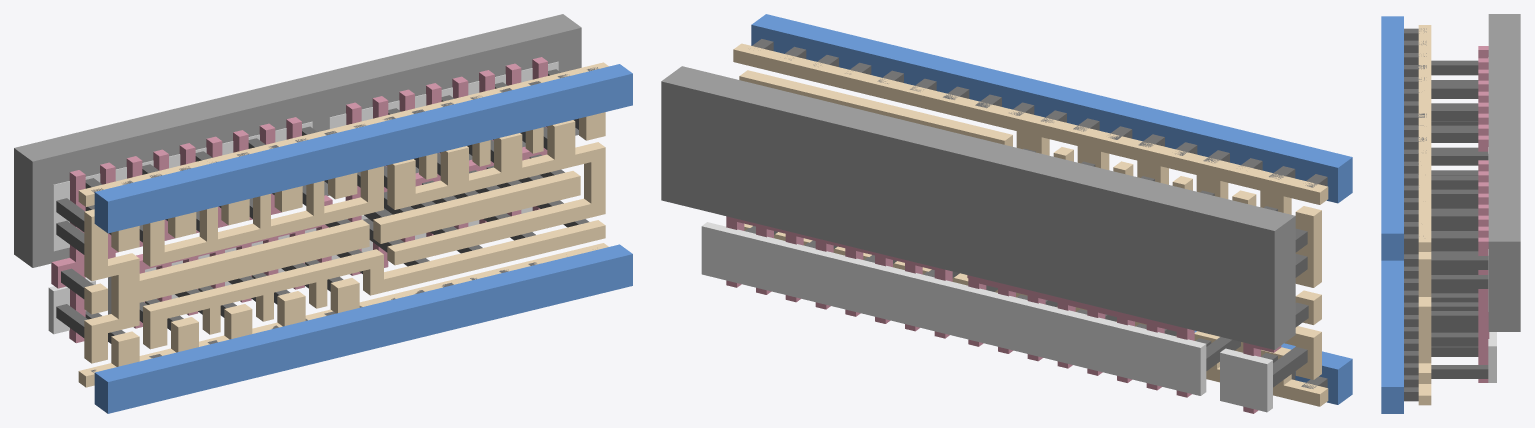
The model's file is sky130_fd_sc_hd__einvn_8.gds.gltf.
3 views of the same model, side by side, from view 1: azimuth 30°, elevation 25°; view 2: azimuth 150°, elevation 25°; view 3: azimuth 270°, elevation 25° (orthographic). The views are drawn at different scales.
Parts seen in each view (by area): view 1: sky130_fd_sc_hd__einvn_8_li1, sky130_fd_sc_hd__einvn_8_met1, sky130_fd_sc_hd__einvn_8_nwell, sky130_fd_sc_hd__einvn_8_poly, sky130_fd_sc_hd__einvn_8_licon, sky130_fd_sc_hd__einvn_8_diff, sky130_fd_sc_hd__einvn_8_mcon; view 2: sky130_fd_sc_hd__einvn_8_nwell, sky130_fd_sc_hd__einvn_8_diff, sky130_fd_sc_hd__einvn_8_li1, sky130_fd_sc_hd__einvn_8_met1, sky130_fd_sc_hd__einvn_8_poly, sky130_fd_sc_hd__einvn_8_mcon, sky130_fd_sc_hd__einvn_8_licon; view 3: sky130_fd_sc_hd__einvn_8_licon, sky130_fd_sc_hd__einvn_8_nwell, sky130_fd_sc_hd__einvn_8_met1, sky130_fd_sc_hd__einvn_8_mcon, sky130_fd_sc_hd__einvn_8_li1, sky130_fd_sc_hd__einvn_8_poly, sky130_fd_sc_hd__einvn_8_diff.
Boxes of the visible parts, <box> form: sky130_fd_sc_hd__einvn_8_li1: <box>78,62,608,387</box>; sky130_fd_sc_hd__einvn_8_met1: <box>94,64,632,413</box>; sky130_fd_sc_hd__einvn_8_nwell: <box>14,14,581,267</box>; sky130_fd_sc_hd__einvn_8_poly: <box>51,57,547,343</box>; sky130_fd_sc_hd__einvn_8_licon: <box>56,69,588,343</box>; sky130_fd_sc_hd__einvn_8_diff: <box>48,61,558,334</box>; sky130_fd_sc_hd__einvn_8_mcon: <box>91,67,598,373</box>; sky130_fd_sc_hd__einvn_8_nwell: <box>661,66,1295,349</box>; sky130_fd_sc_hd__einvn_8_diff: <box>701,222,1272,412</box>; sky130_fd_sc_hd__einvn_8_li1: <box>733,43,1328,406</box>; sky130_fd_sc_hd__einvn_8_met1: <box>751,14,1352,404</box>; sky130_fd_sc_hd__einvn_8_poly: <box>726,216,1281,413</box>; sky130_fd_sc_hd__einvn_8_mcon: <box>752,39,1327,388</box>; sky130_fd_sc_hd__einvn_8_licon: <box>745,148,1308,387</box>; sky130_fd_sc_hd__einvn_8_licon: <box>1431,60,1488,378</box>; sky130_fd_sc_hd__einvn_8_nwell: <box>1488,14,1520,331</box>; sky130_fd_sc_hd__einvn_8_met1: <box>1381,16,1403,413</box>; sky130_fd_sc_hd__einvn_8_mcon: <box>1404,28,1426,401</box>; sky130_fd_sc_hd__einvn_8_li1: <box>1418,25,1431,405</box>; sky130_fd_sc_hd__einvn_8_poly: <box>1478,46,1489,382</box>; sky130_fd_sc_hd__einvn_8_diff: <box>1488,57,1496,382</box>.
Size of the model in its own units: 8.66 by 3.2 by 2.24.
